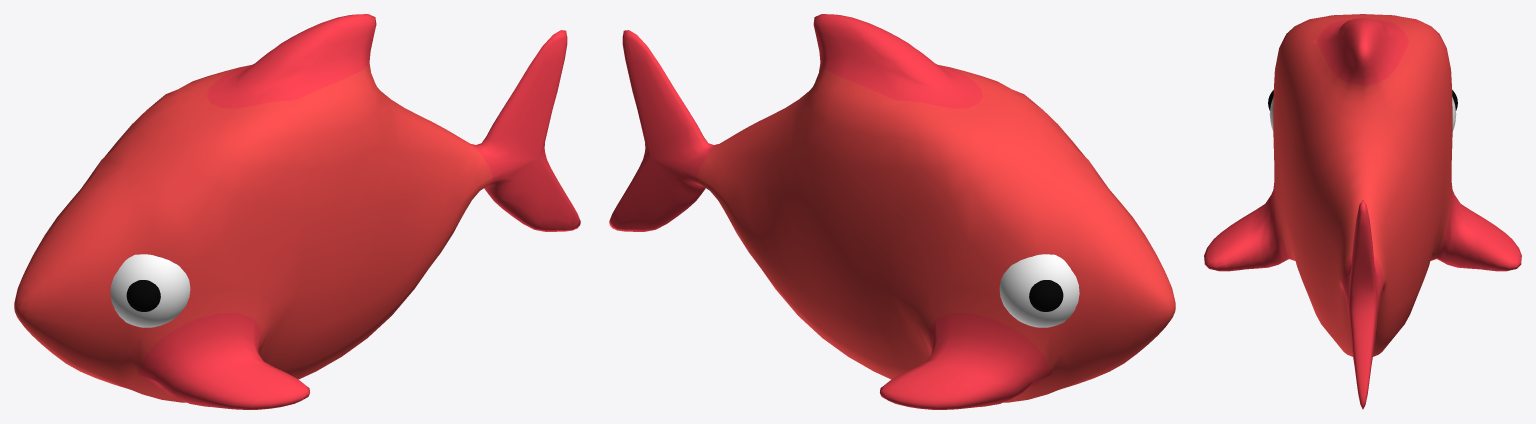
File: fish.fbx
The picture shows the model from 3 angles, left to right: view 1: azimuth 30°, elevation 25°; view 2: azimuth 150°, elevation 25°; view 3: azimuth 270°, elevation 25°; orthographic projection.
Visible parts, largest first — view 1: Cube; view 2: Cube; view 3: Cube.
Part boxes in pixels (x1,y1,x2,y2): Cube: (14, 14, 580, 409); Cube: (609, 14, 1175, 409); Cube: (1204, 14, 1521, 409).
Bounding box in the file's own units: 94.3 × 77.08 × 157.
